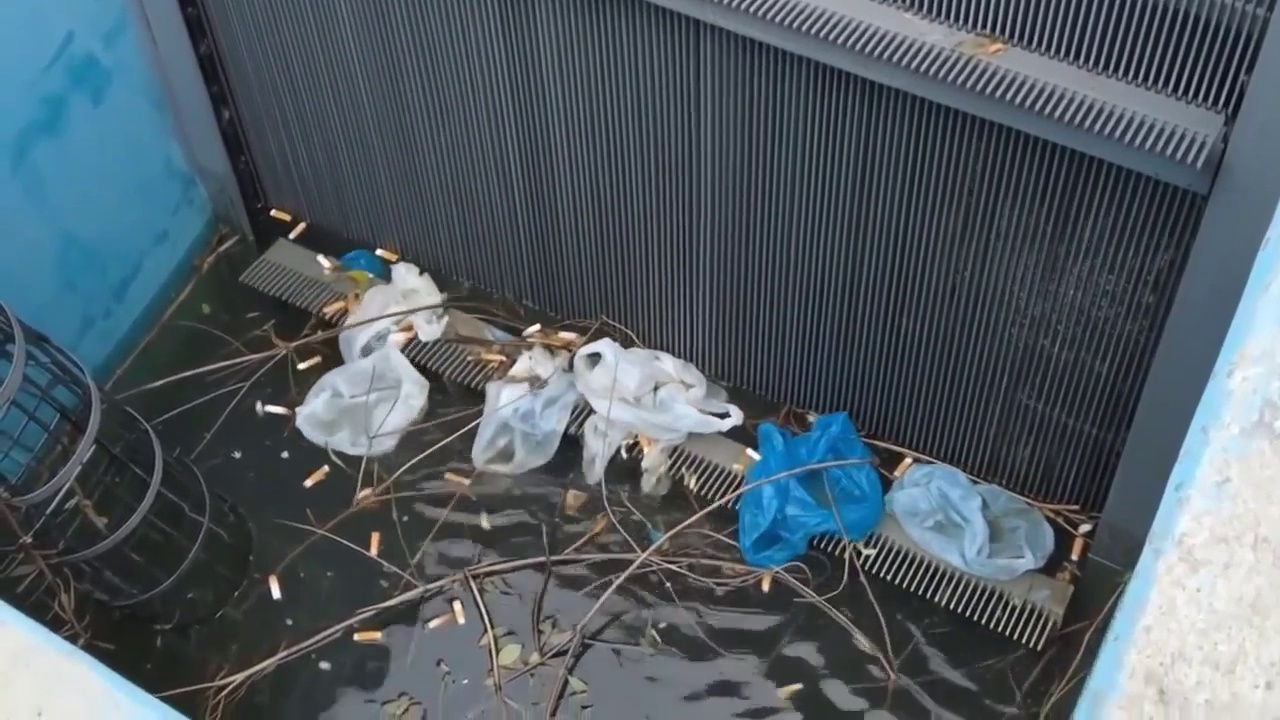debris: (473, 339, 742, 491), (297, 263, 449, 456), (738, 413, 884, 568), (886, 465, 1053, 579)
